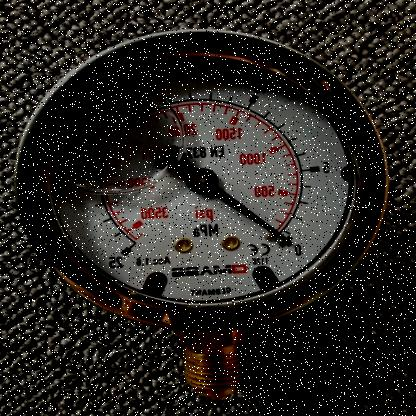needle: (210, 186, 289, 243)
